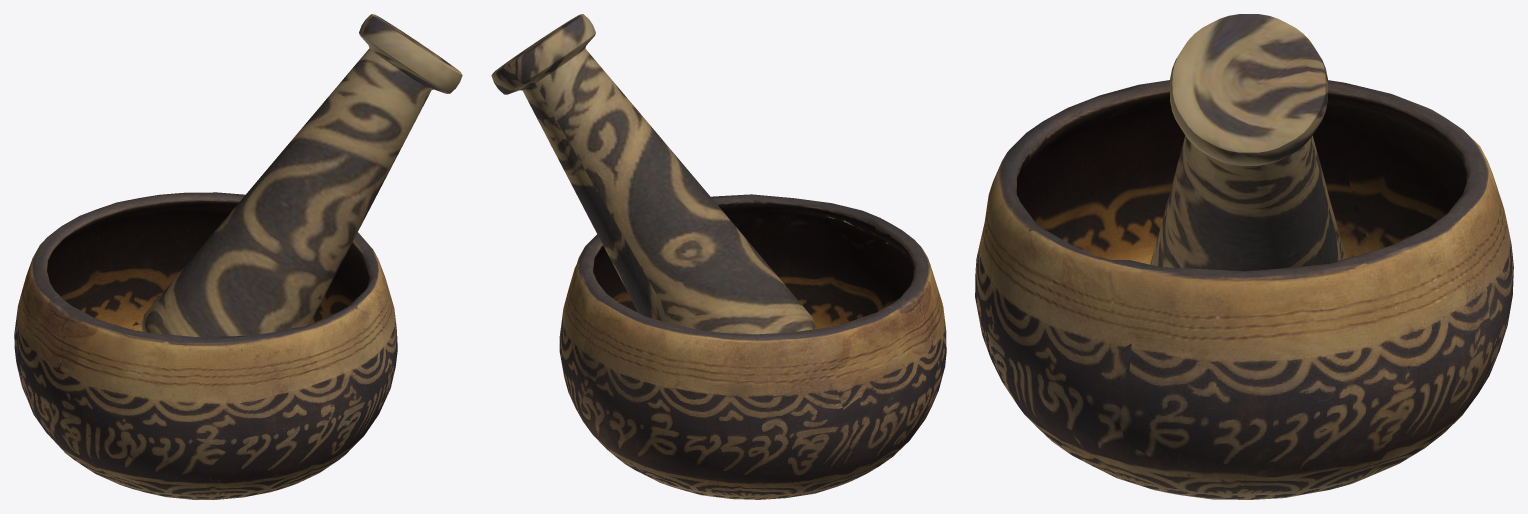
The model's file is Bowl2.fbx.
3 views of the same model, side by side, from view 1: azimuth 30°, elevation 25°; view 2: azimuth 150°, elevation 25°; view 3: azimuth 270°, elevation 25° (orthographic). The views are drawn at different scales.
Parts seen in each view (by area): view 1: Bowl2, Pestle2; view 2: Bowl2, Pestle2; view 3: Bowl2, Pestle2.
Boxes of the visible parts, x1=… form: Bowl2: x1=14, y1=192, x2=397, y2=499; Pestle2: x1=141, y1=14, x2=462, y2=336; Bowl2: x1=559, y1=194, x2=946, y2=499; Pestle2: x1=491, y1=14, x2=815, y2=334; Bowl2: x1=975, y1=80, x2=1513, y2=499; Pestle2: x1=1150, y1=14, x2=1345, y2=271.
Bounding box in the file's own units: 449 × 416 × 360.
